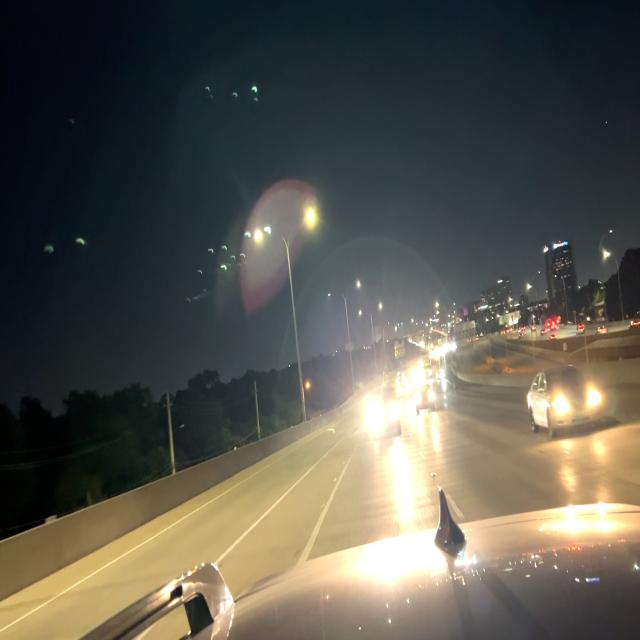back-of-sign: (455, 320, 478, 346), (393, 340, 406, 361)
